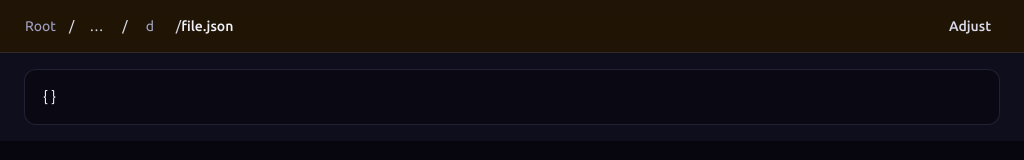
Scenario: JsonViewer › breadcrumb navigation › expands breadcrumb when ellipsis is clicked
// Click ellipsis to expand
Click the button named "Show full path".
click(96, 26)  # box 74,4 -> 118,48
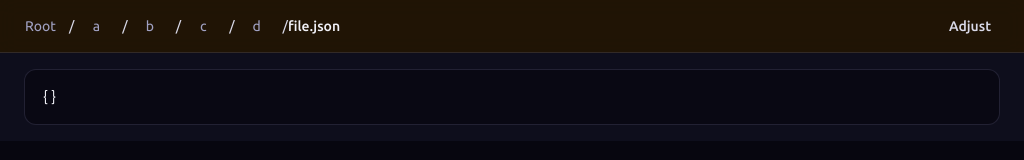
Expected: the button "a" is shown, 74,4 -> 118,48
Expected: the button "b" is shown, 128,4 -> 172,48
Expected: the button "c" is shown, 181,4 -> 225,48
